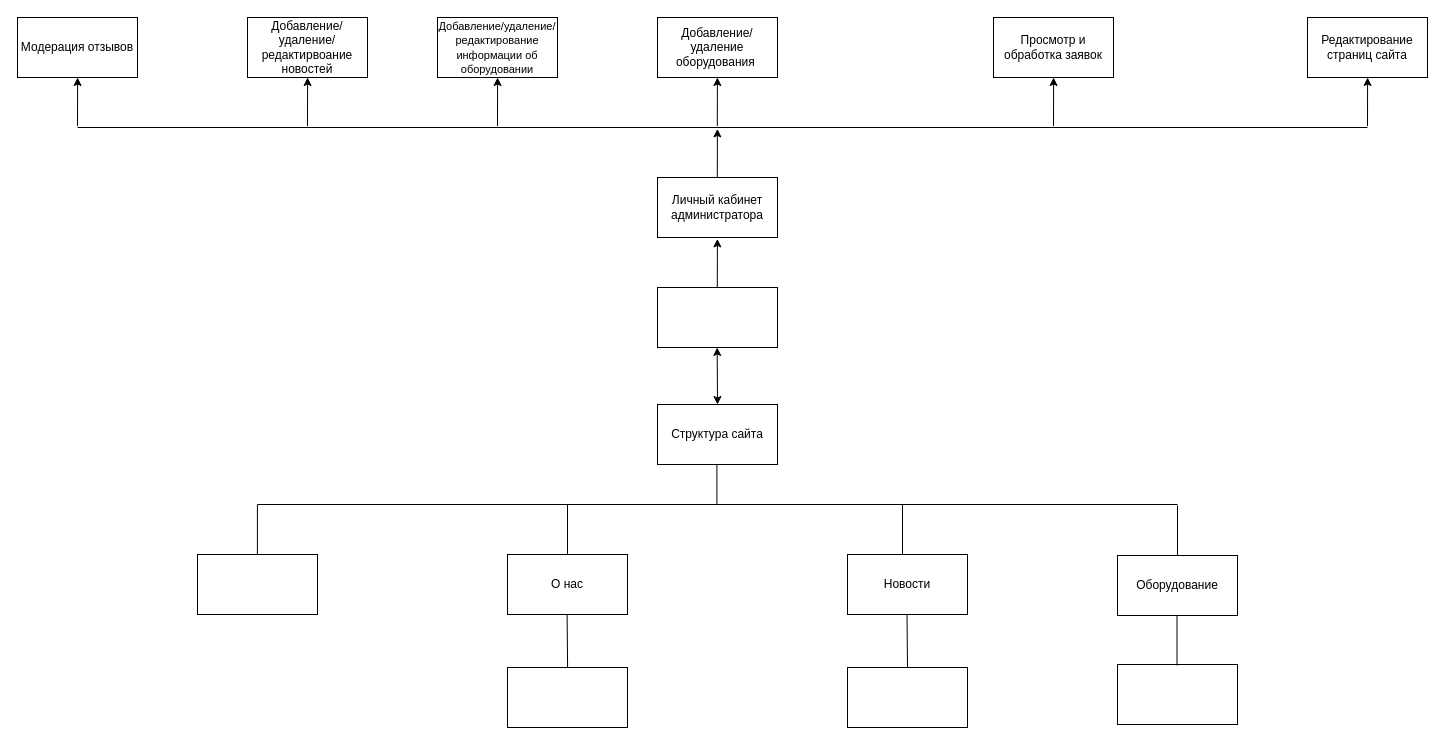
Image size: 1445x745. Some labels were removed from this diagram. Each missing label, with the box of its shape:
Авторизация: (656, 286, 778, 348)
Главная: (196, 554, 318, 614)
Группы оборудования: (1116, 664, 1238, 724)
Отзывы: (506, 666, 628, 728)
Частозадаваемые вопрсы: (846, 666, 968, 728)
